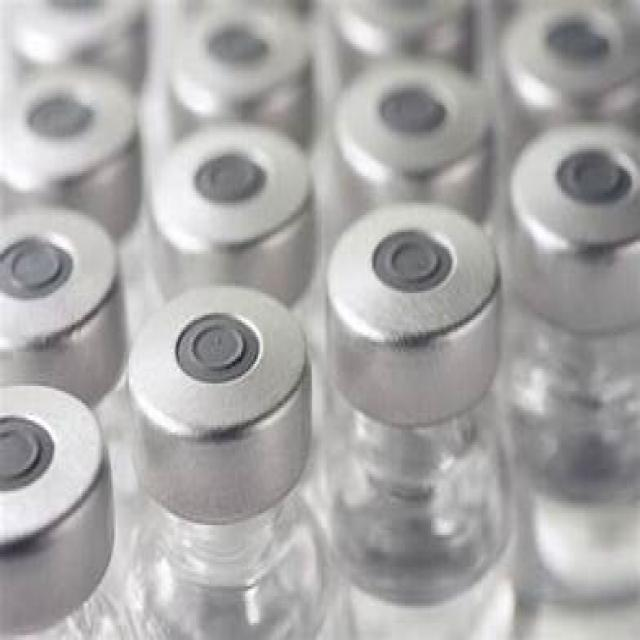vial: (322, 228, 520, 386), (127, 304, 313, 468), (0, 377, 115, 611), (140, 119, 305, 278), (340, 63, 497, 202), (0, 206, 124, 375), (511, 130, 640, 290), (151, 18, 336, 120), (0, 66, 121, 209), (498, 9, 640, 127), (325, 0, 484, 61), (13, 0, 136, 66), (186, 0, 306, 9)
